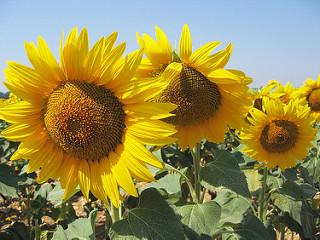sunflower: (3, 25, 179, 211), (125, 26, 253, 151), (241, 97, 318, 169), (299, 76, 320, 123)
